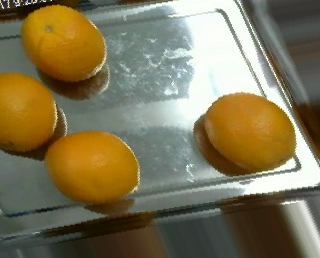Orange: (205, 91, 296, 171), (44, 131, 139, 204), (20, 4, 105, 81), (1, 72, 57, 150)
